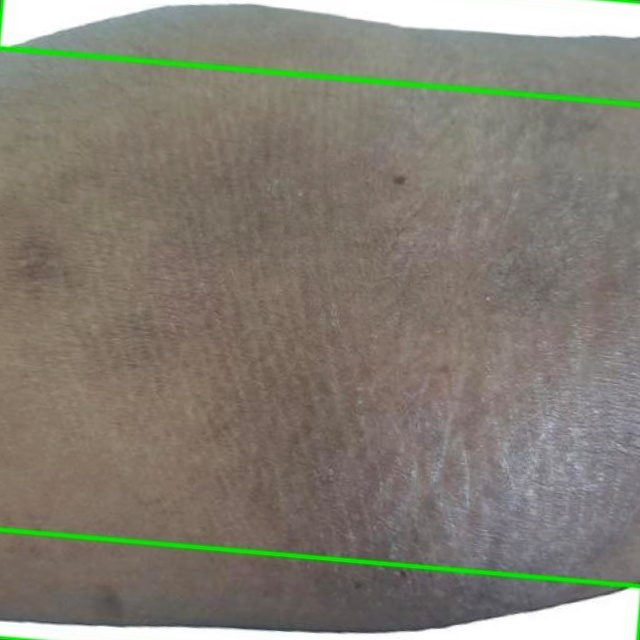Contact Dermatitis: (0, 529, 639, 639), (0, 0, 639, 104)
